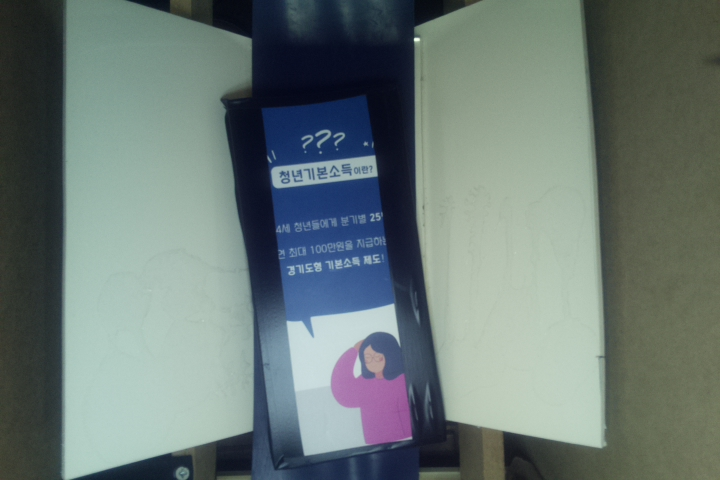book: (224, 84, 446, 469)
